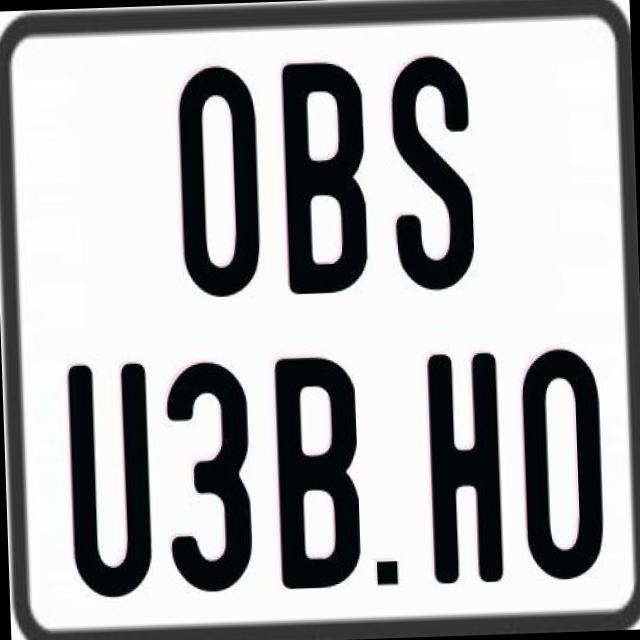0: (516, 345, 606, 579), (175, 64, 262, 301)
3: (161, 358, 251, 598)
B: (274, 352, 370, 595), (282, 57, 368, 291)
H: (427, 351, 511, 588)
S: (390, 49, 478, 287)
U: (63, 361, 155, 596)
